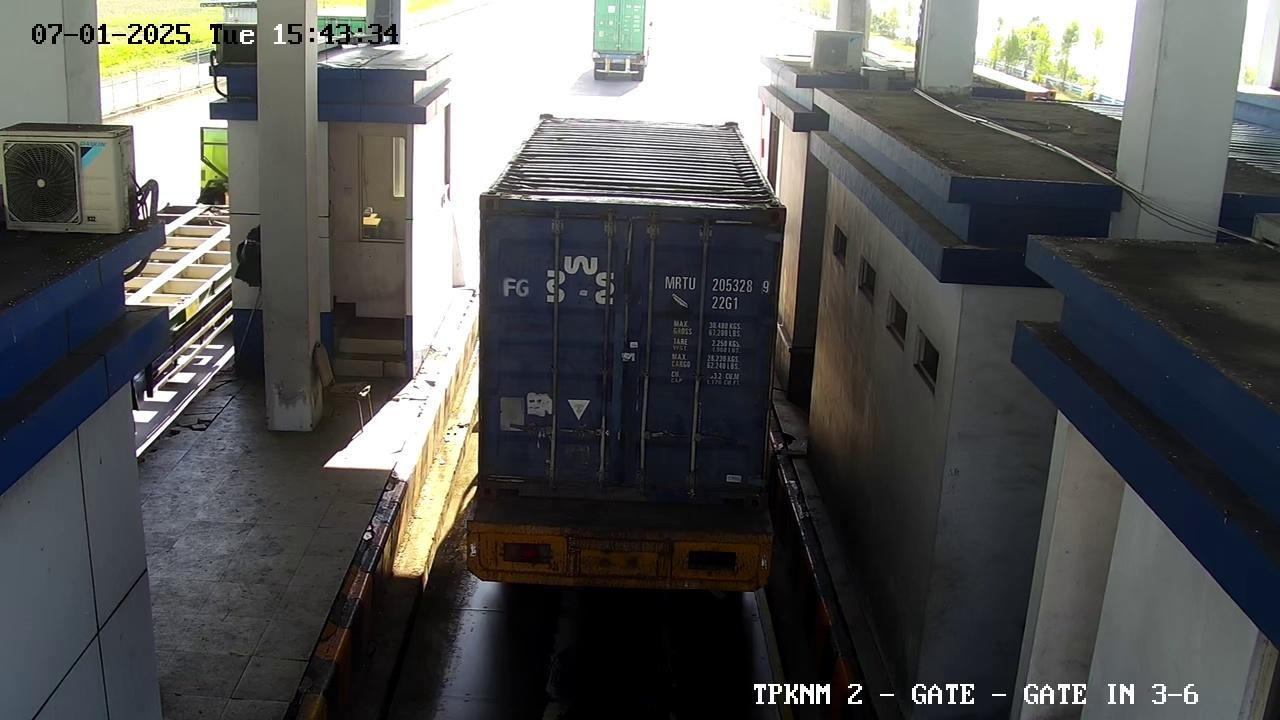Container_ID: (652, 271, 778, 297)
